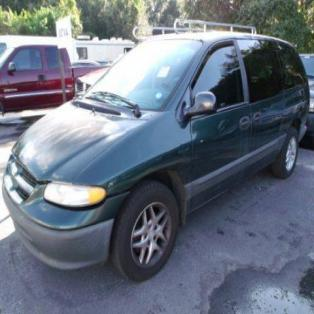Auto: (2, 19, 310, 282)
